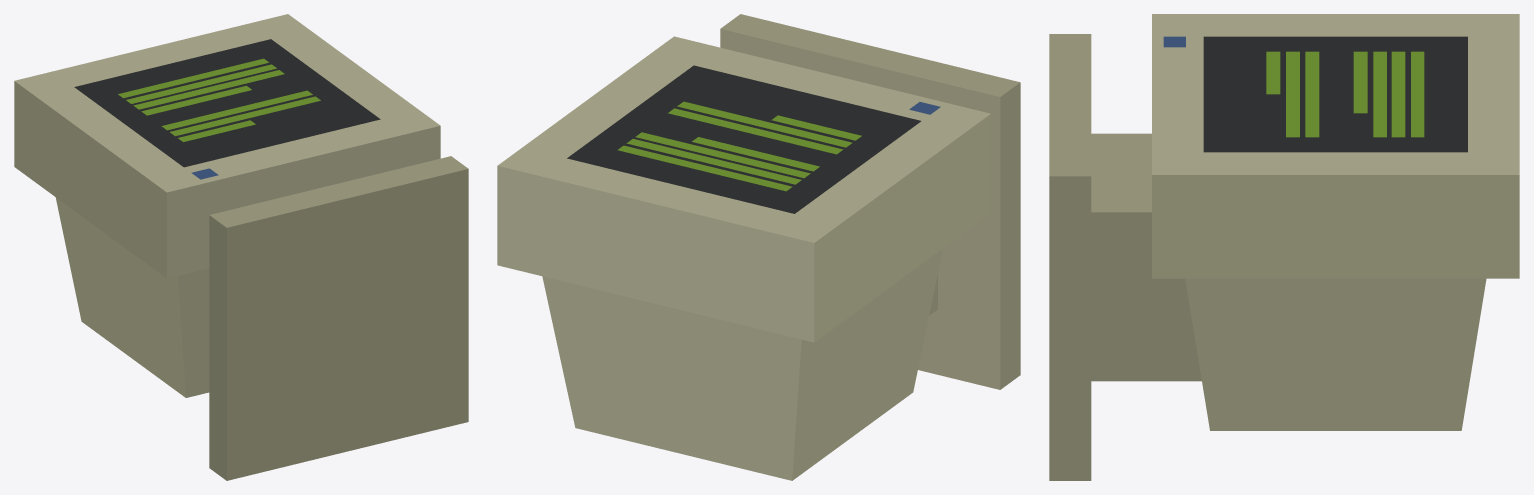
File: Monitor3.glb
3 views of the same model, side by side, from view 1: azimuth 30°, elevation 25°; view 2: azimuth 150°, elevation 25°; view 3: azimuth 270°, elevation 25° (orthographic). The views are drawn at different scales.
Parts seen in each view (by area): view 1: SO_Monitor_03; view 2: SO_Monitor_03; view 3: SO_Monitor_03.
Boxes of the visible parts, x1,y1,x2,y2 form: SO_Monitor_03: (14,14,468,480); SO_Monitor_03: (497,14,1020,480); SO_Monitor_03: (1049,14,1519,480).
Bounding box in the file's own units: 0.9122 × 0.8322 × 1.13.
Materials: 1 (1 with a texture image).
